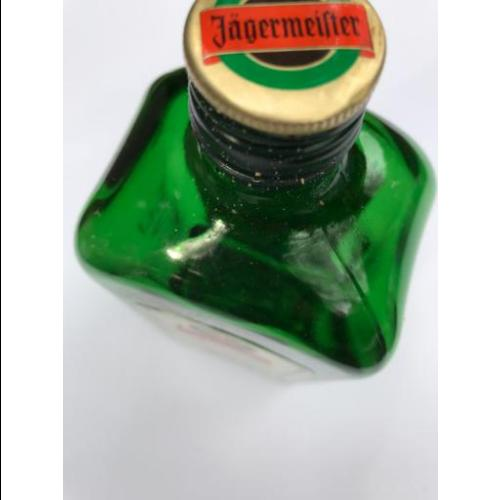glass: (73, 0, 440, 383)
